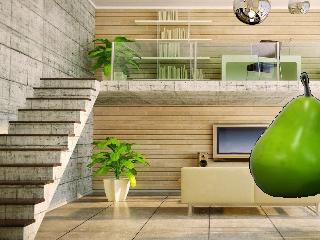pear: (249, 72, 320, 198)
